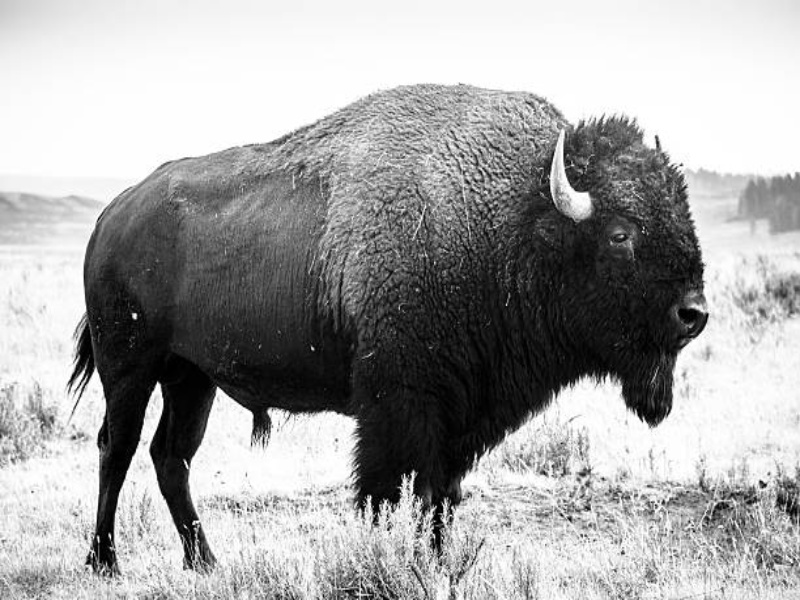buffalo: (61, 80, 715, 580)
